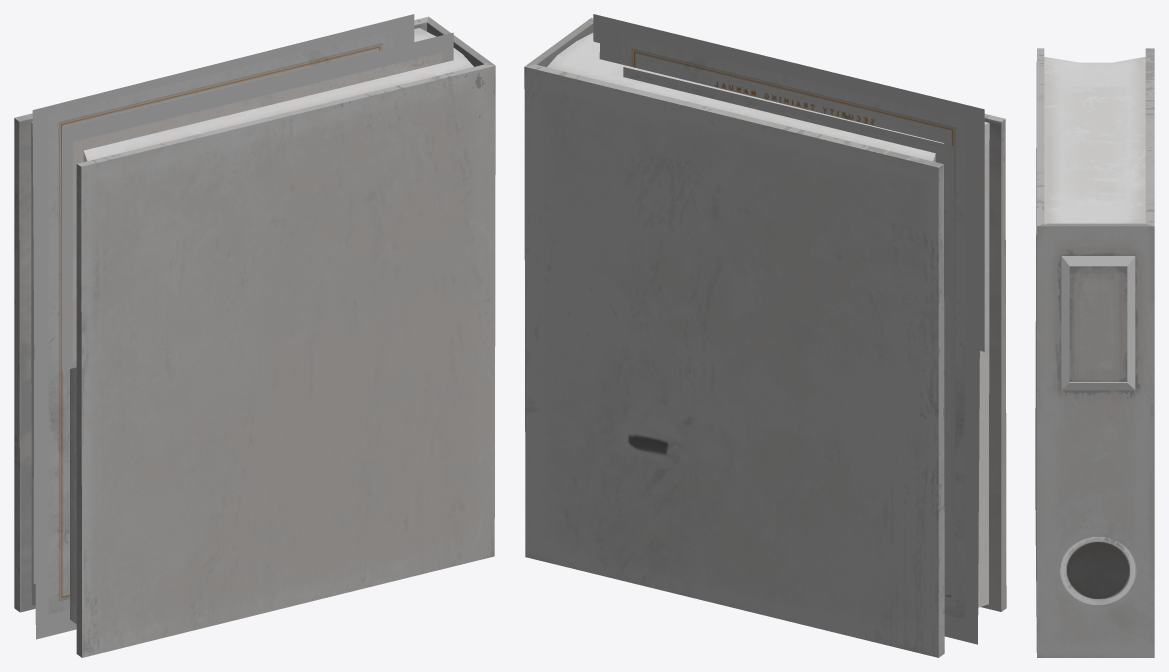
The model's file is SM_Folder_A2.fbx.
3 renders of one model, left to right at view 1: azimuth 30°, elevation 25°; view 2: azimuth 150°, elevation 25°; view 3: azimuth 270°, elevation 25°, orthographic. The views are drawn at different scales.
Parts seen in each view (by area): view 1: SM_Folder_A2; view 2: SM_Folder_A2; view 3: SM_Folder_A2.
Part boxes in pixels (box(x1,y1,x2,y2)): SM_Folder_A2: box(14, 14, 495, 657); SM_Folder_A2: box(524, 14, 1006, 657); SM_Folder_A2: box(1035, 48, 1154, 657).
Bounding box in the file's own units: 31.07 × 8.51 × 36.89.
Materials: 2 (2 with a texture image).
